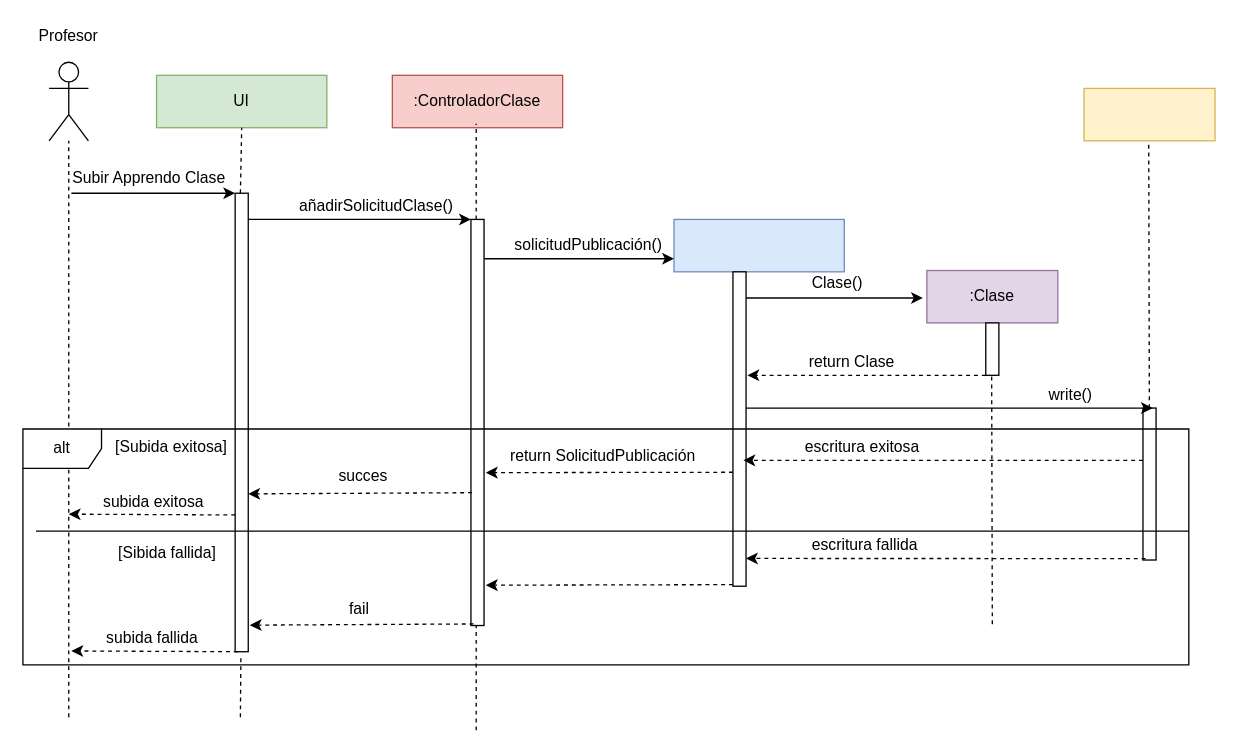
Image size: 1238x755. Some labels were removed from this diagram. The shapes that lost their labels are listed below. From the top down, each one's centre as x and y in pixels, then its label:
point (1149, 114): :DAO
point (758, 245): :SolicitudPublicación
